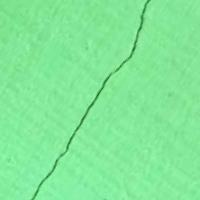crack: (30, 0, 152, 199)
